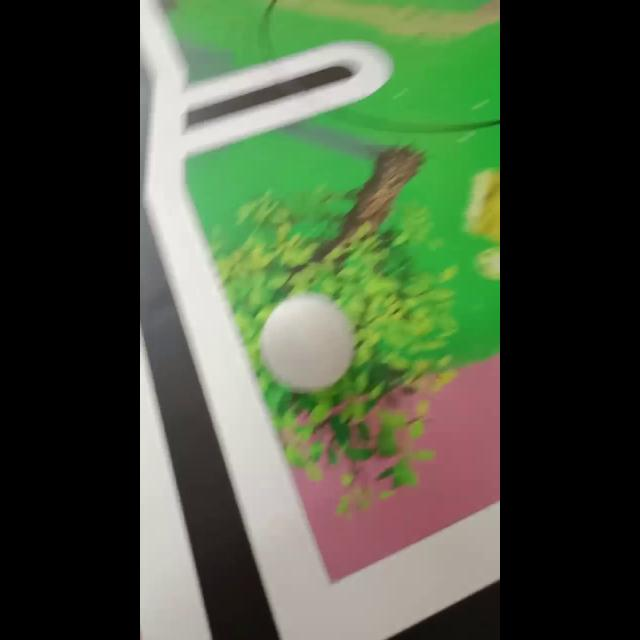white ball: (258, 291, 356, 393)
